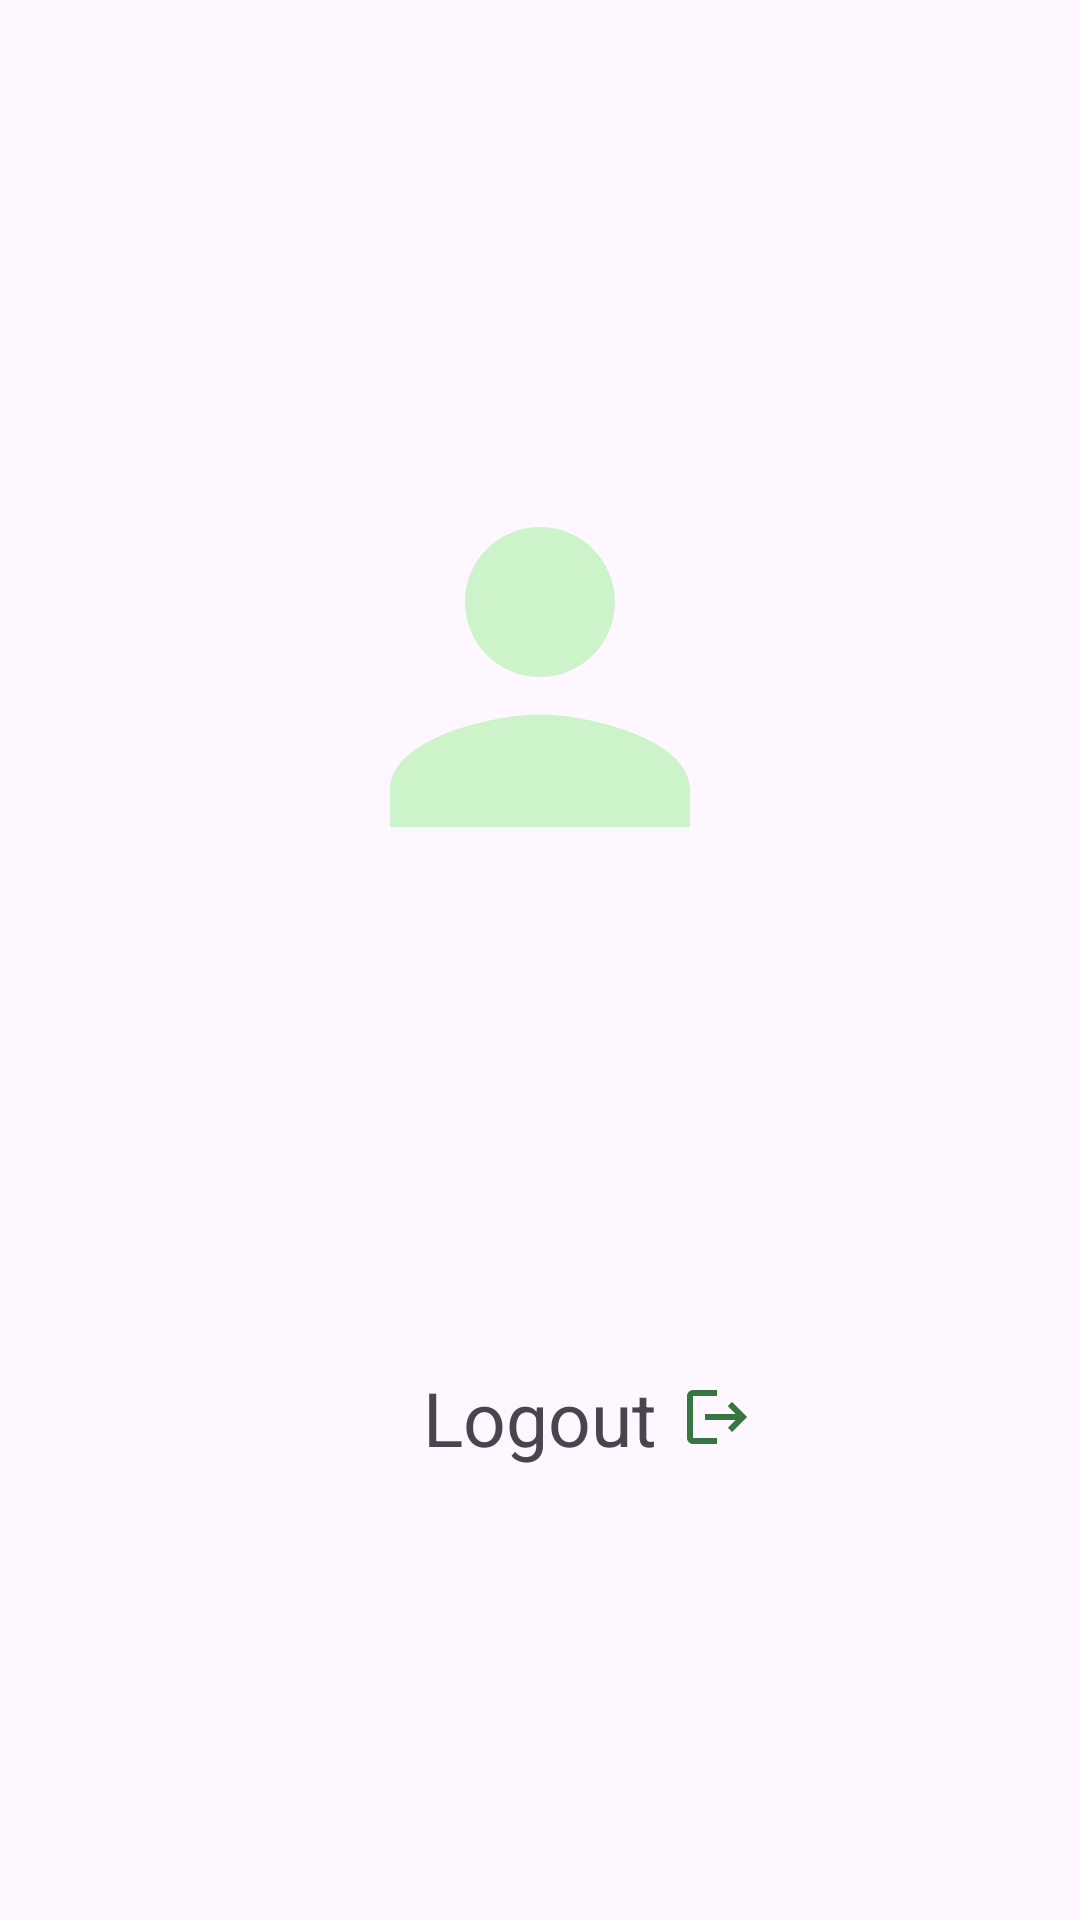

Icon click points for this 1080×1920 phone screenshot, format (x=x, y=y):
login person: (x=540, y=677)
